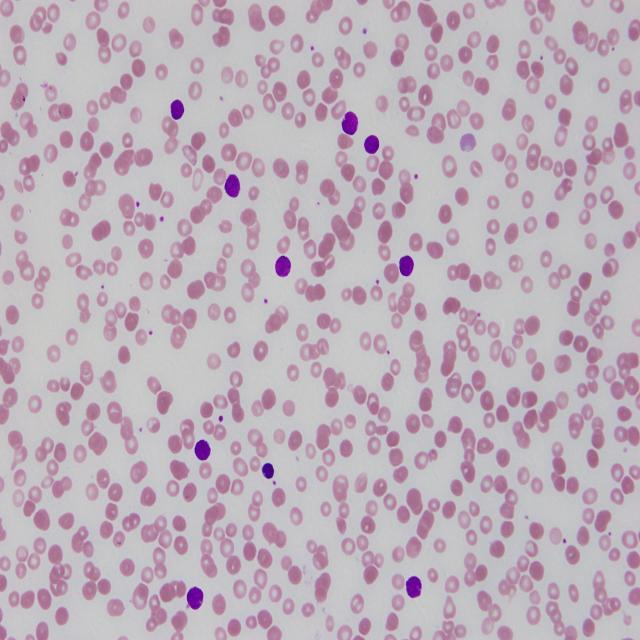cell: (341, 111, 359, 136), (186, 586, 204, 611), (405, 576, 423, 599), (194, 439, 211, 461), (399, 255, 415, 277), (275, 255, 291, 277), (225, 175, 240, 198), (364, 134, 380, 155), (170, 100, 184, 120), (261, 463, 275, 480)
